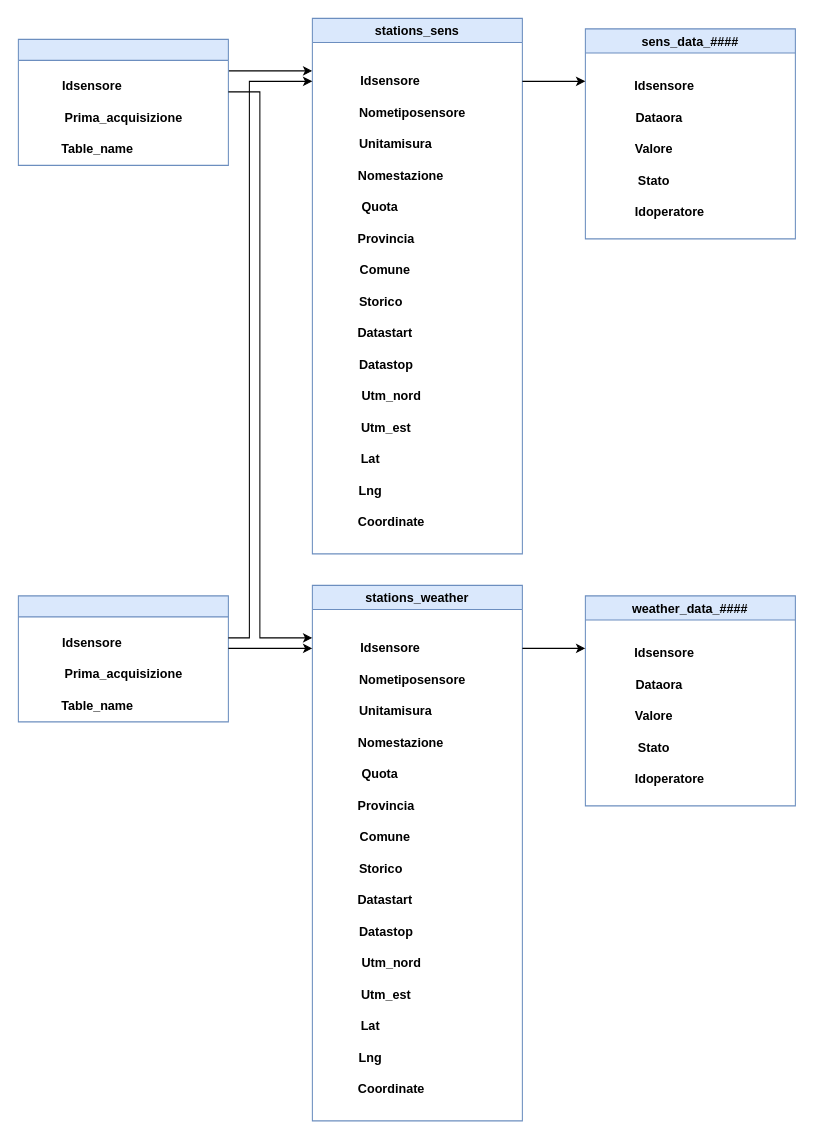
Some shapes in this 814 by 1139 pixel diagram are drawn without their labels. Here are the shapes that lost their labels. From the top down, the box of each, then its label:
(17, 38, 228, 165): stations_check_datastart
(17, 595, 228, 722): stations_check_datastop
